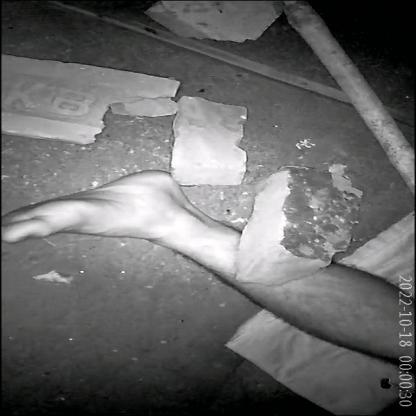leg: (0, 158, 416, 366)
